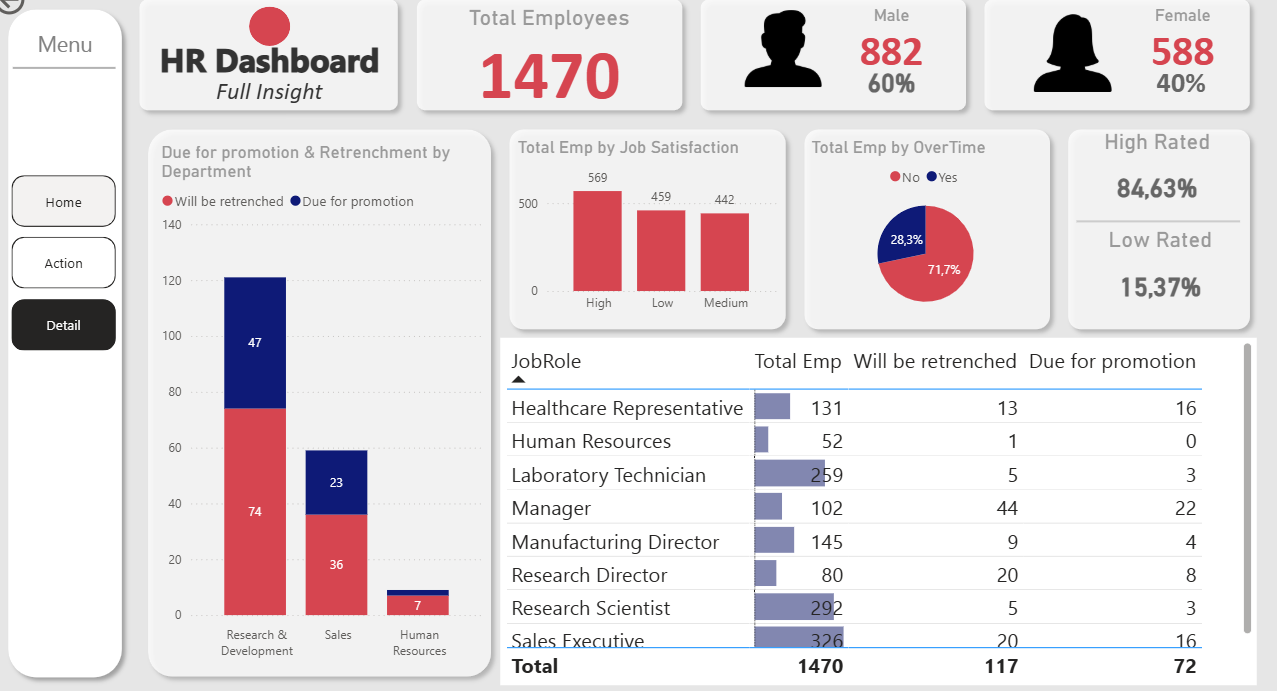

The dashboard page shown, as its layout file describes it:
{"tool":"powerbi","page":{"name":"Detail","canvas":[1280,720],"ordinal":2},"visuals":[{"type":"shape","box":[9.6,20.6,130.4,677.9],"z":0},{"type":"shape","box":[693.5,11.7,280.1,127.4],"z":1000},{"type":"shape","box":[973.6,11.7,280.1,127.4],"z":2000},{"type":"shape","box":[140.1,11.7,273.3,127.4],"z":3000},{"type":"shape","box":[413.4,11.7,280.1,127.4],"z":4000},{"type":"textbox","box":[148.8,52.5,255.8,59.3],"z":5000},{"type":"textbox","box":[193.5,90.6,166,39.8],"z":6000},{"type":"shape","box":[256.8,27.2,40.9,38.9],"z":7000},{"type":"card","title":"Total Employees","fields":{"Values":["All Measures.Total Emp"]},"box":[444.5,26.3,217.9,98.2],"z":8000},{"type":"card","title":"Male","fields":{"Values":["All Measures.Male"]},"box":[837.4,26.3,108.9,65.2],"z":9000},{"type":"card","title":"Male","fields":{"Values":["All Measures.% Male"]},"box":[856.9,84.6,69.1,33.1],"z":10000},{"type":"card","title":"Female","fields":{"Values":["All Measures.Female"]},"box":[1124.4,26.3,108.9,65.2],"z":11000},{"type":"card","title":"Male","fields":{"Values":["All Measures.% Female"]},"box":[1143.8,84.6,69.1,33.1],"z":12000},{"type":"image","box":[740.2,26.3,86.6,85.6],"z":13000},{"type":"image","box":[1027.1,28.2,86.6,89.5],"z":14000},{"type":"actionButton","box":[0,0,100,40],"z":15000},{"type":"shape","box":[148.2,140,356.8,558.5],"z":16000},{"type":"columnChart","title":"Due for promotion & Retrenchment by Department","fields":{"Category":["HR Analytics Data.Department"],"Y":["All Measures.Will be retreanched","All Measures.Due for promotion"]},"box":[166,160.5,329.3,518.7],"z":17000},{"type":"shape","box":[505,140,290.9,215.4],"z":18000},{"type":"shape","box":[795.9,140,260.7,215.4],"z":19000},{"type":"shape","box":[1056.6,140,197.6,215.4],"z":20000},{"type":"shape","box":[1074.4,215.4,161.9,46.7],"z":21000},{"type":"textbox","box":[9.6,43.9,130.4,49.4],"z":24000},{"type":"shape","box":[23.3,74.1,101.5,27.4],"z":25000},{"type":"pageNavigator","box":[22.1,193.9,103.1,174.2],"z":26000},{"type":"columnChart","title":"Total Emp by Job Satisfaction","fields":{"Category":["HR Analytics Data.Satisfaction"],"Y":["All Measures.Total Emp"]},"box":[517.8,155.8,266.3,182.8],"z":26001},{"type":"pieChart","title":"Total Emp by OverTime","fields":{"Category":["HR Analytics Data.OverTime"],"Y":["All Measures.Total Emp"]},"box":[807.4,155.8,235.6,182.8],"z":26002},{"type":"tableEx","fields":{"Values":["HR Analytics Data.JobRole","All Measures.Total Emp","All Measures.Will be retrenched","All Measures.Due for promotion"]},"box":[505.5,354.6,747.2,343.6],"z":26003},{"type":"card","title":"High Rated","fields":{"Values":["All Measures.% High Rated"]},"box":[1069.9,148.5,166.9,90.8],"z":26004},{"type":"card","title":"Low Rated","fields":{"Values":["All Measures.% Low Rated"]},"box":[1067.5,244.2,177.9,94.5],"z":26005}]}

Visuals, with their boxes on the page's 1280x720 design canvas (x1, y1, x2, y2). These are canvas units, not pixel positions in the 1277x691 screenshot, which may show the page scaled, cropped or inside an application window:
shape: [left=10, top=21, right=140, bottom=698]
shape: [left=694, top=12, right=974, bottom=139]
shape: [left=974, top=12, right=1254, bottom=139]
shape: [left=140, top=12, right=413, bottom=139]
shape: [left=413, top=12, right=694, bottom=139]
textbox: [left=149, top=52, right=405, bottom=112]
textbox: [left=194, top=91, right=360, bottom=130]
shape: [left=257, top=27, right=298, bottom=66]
"Total Employees" card: [left=444, top=26, right=662, bottom=124]
"Male" card: [left=837, top=26, right=946, bottom=92]
"Male" card: [left=857, top=85, right=926, bottom=118]
"Female" card: [left=1124, top=26, right=1233, bottom=92]
"Male" card: [left=1144, top=85, right=1213, bottom=118]
image: [left=740, top=26, right=827, bottom=112]
image: [left=1027, top=28, right=1114, bottom=118]
actionButton: [left=0, top=0, right=100, bottom=40]
shape: [left=148, top=140, right=505, bottom=698]
"Due for promotion & Retrenchment by Department" columnChart: [left=166, top=160, right=495, bottom=679]
shape: [left=505, top=140, right=796, bottom=355]
shape: [left=796, top=140, right=1057, bottom=355]
shape: [left=1057, top=140, right=1254, bottom=355]
shape: [left=1074, top=215, right=1236, bottom=262]
textbox: [left=10, top=44, right=140, bottom=93]
shape: [left=23, top=74, right=125, bottom=102]
pageNavigator: [left=22, top=194, right=125, bottom=368]
"Total Emp by Job Satisfaction" columnChart: [left=518, top=156, right=784, bottom=339]
"Total Emp by OverTime" pieChart: [left=807, top=156, right=1043, bottom=339]
tableEx - HR Analytics Data.JobRole x All Measures.Total Emp: [left=506, top=355, right=1253, bottom=698]
"High Rated" card: [left=1070, top=148, right=1237, bottom=239]
"Low Rated" card: [left=1068, top=244, right=1245, bottom=339]
